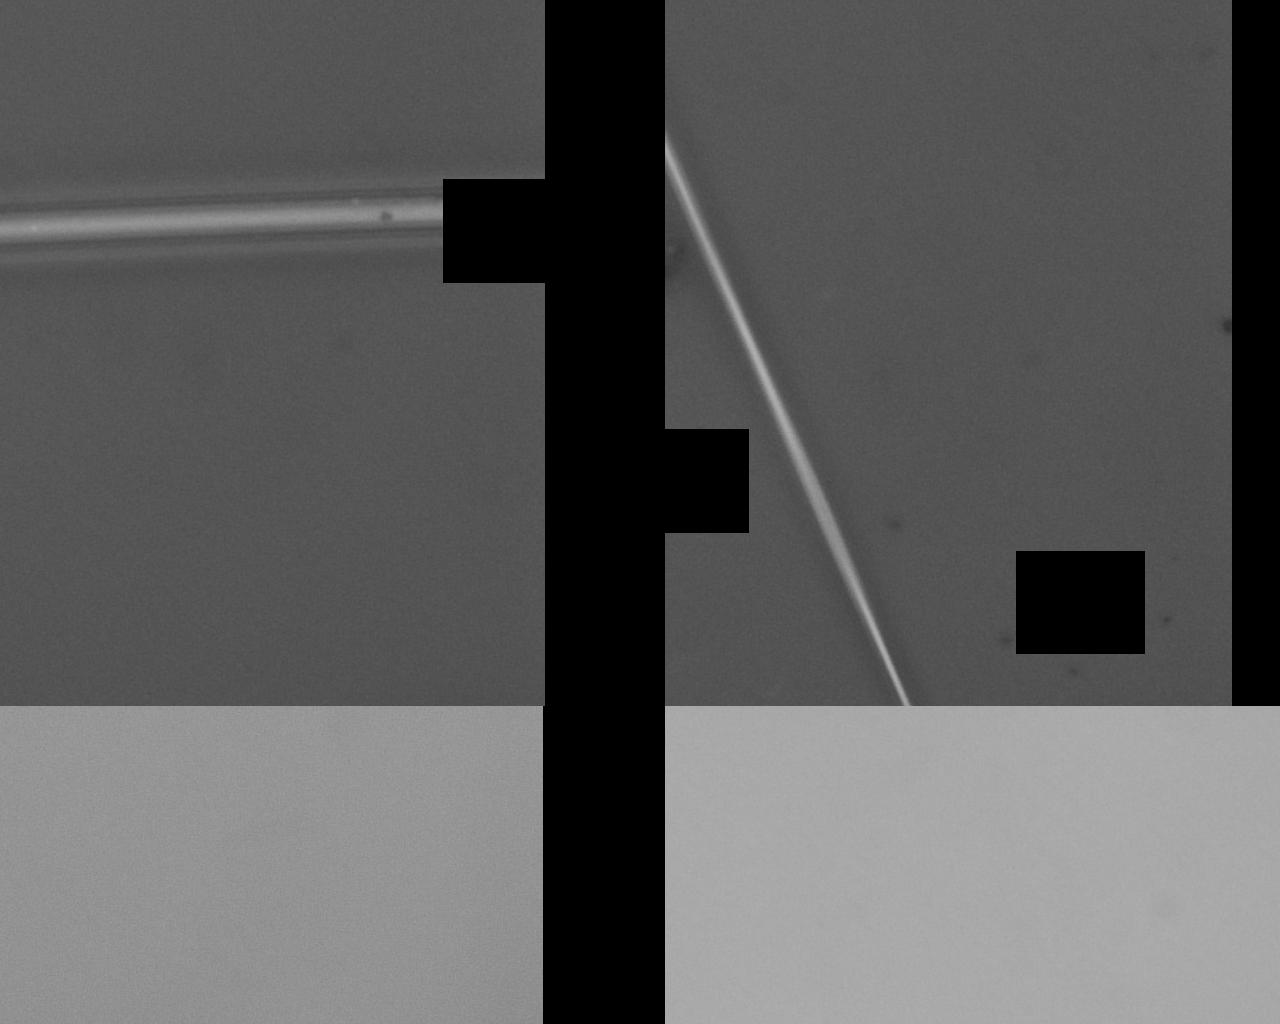fiber: (127, 529, 1151, 606)
